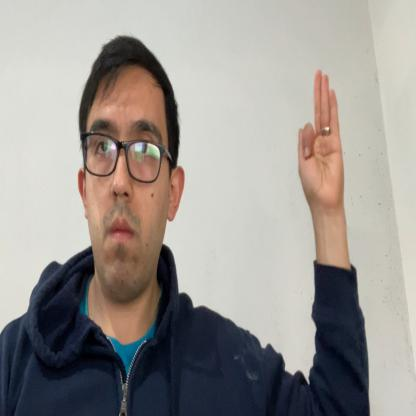F: (298, 68, 344, 212)
